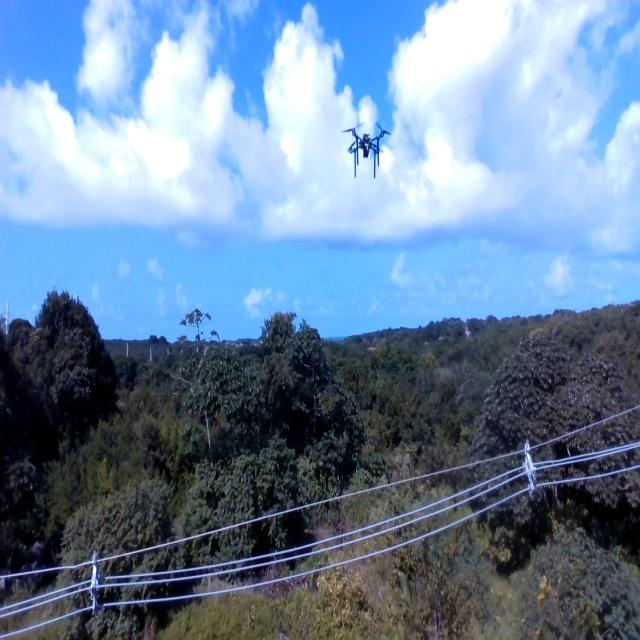-uav-: (338, 117, 397, 188)
